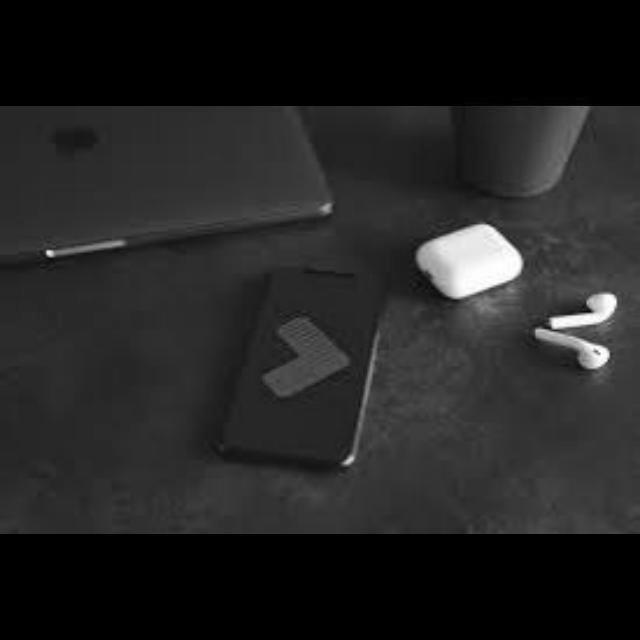fake: (214, 258, 400, 479)
